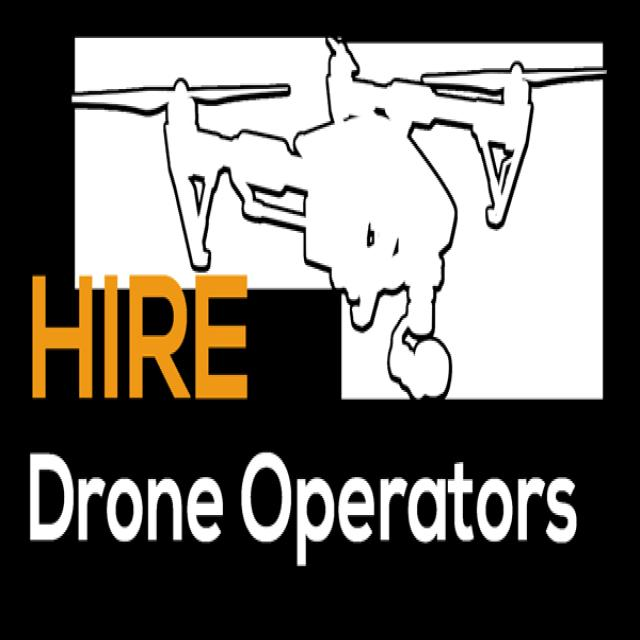drone: (59, 41, 616, 312)
